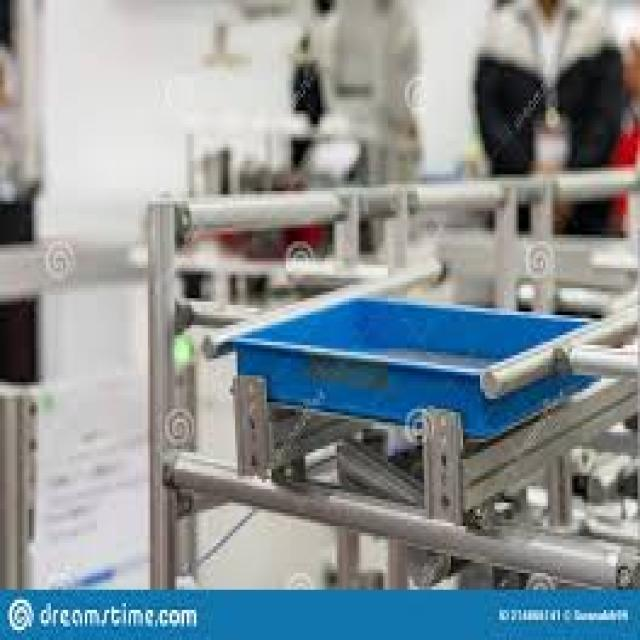basket: (227, 286, 600, 455)
